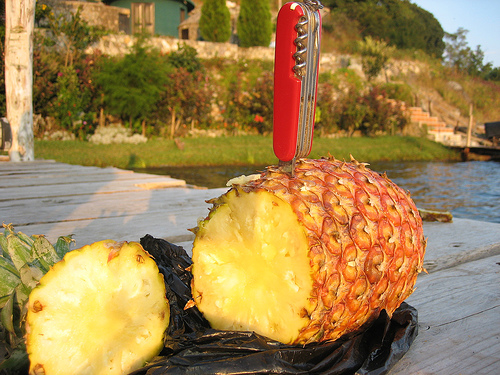pineapple: (190, 157, 430, 348), (1, 219, 175, 374)
